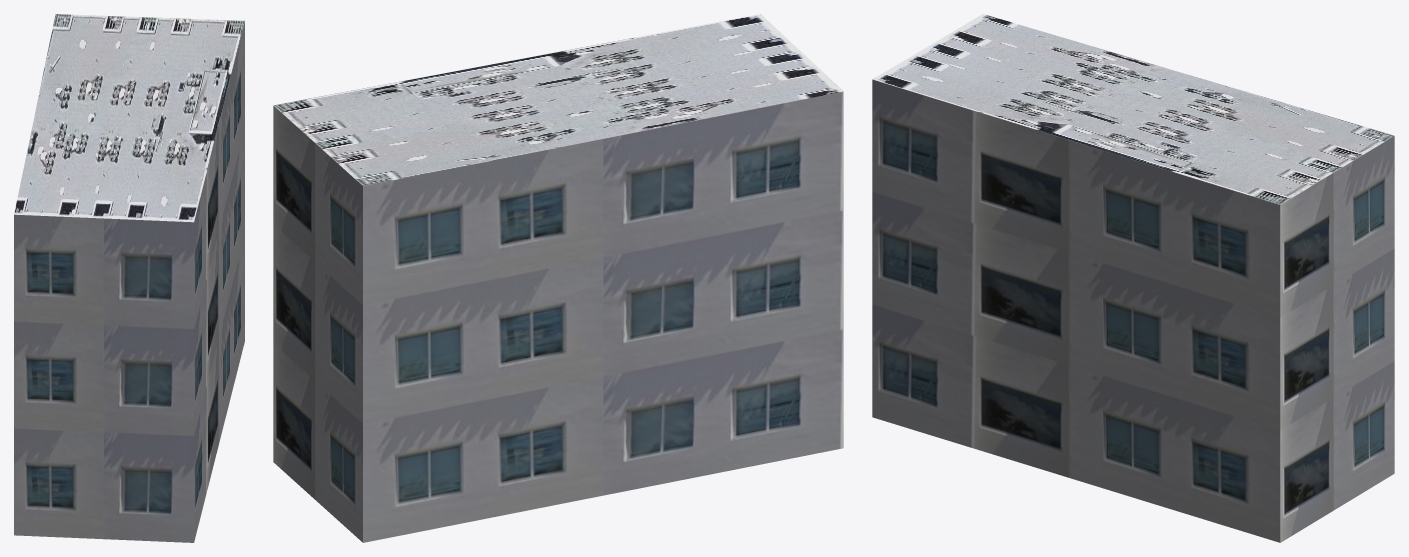
Rendered from ResTex__1109.fbx.
3 views of the same model, side by side, from view 1: azimuth 30°, elevation 25°; view 2: azimuth 150°, elevation 25°; view 3: azimuth 270°, elevation 25° (orthographic). The views are drawn at different scales.
Visible parts, largest first — view 1: CityEngineMaterial_10_m, CityEngineMaterial_8_m; view 2: CityEngineMaterial_10_m, CityEngineMaterial_8_m; view 3: CityEngineMaterial_10_m, CityEngineMaterial_8_m.
Part boxes in pixels (left/top/right/bottom): CityEngineMaterial_10_m: left=14, top=21, right=244, bottom=542; CityEngineMaterial_8_m: left=14, top=14, right=244, bottom=222; CityEngineMaterial_10_m: left=273, top=91, right=843, bottom=542; CityEngineMaterial_8_m: left=273, top=14, right=843, bottom=185; CityEngineMaterial_10_m: left=872, top=79, right=1394, bottom=542; CityEngineMaterial_8_m: left=872, top=14, right=1394, bottom=204.
Bounding box in the file's own units: 10.92 × 9 × 12.62.
Materials: 2 (2 with a texture image).
